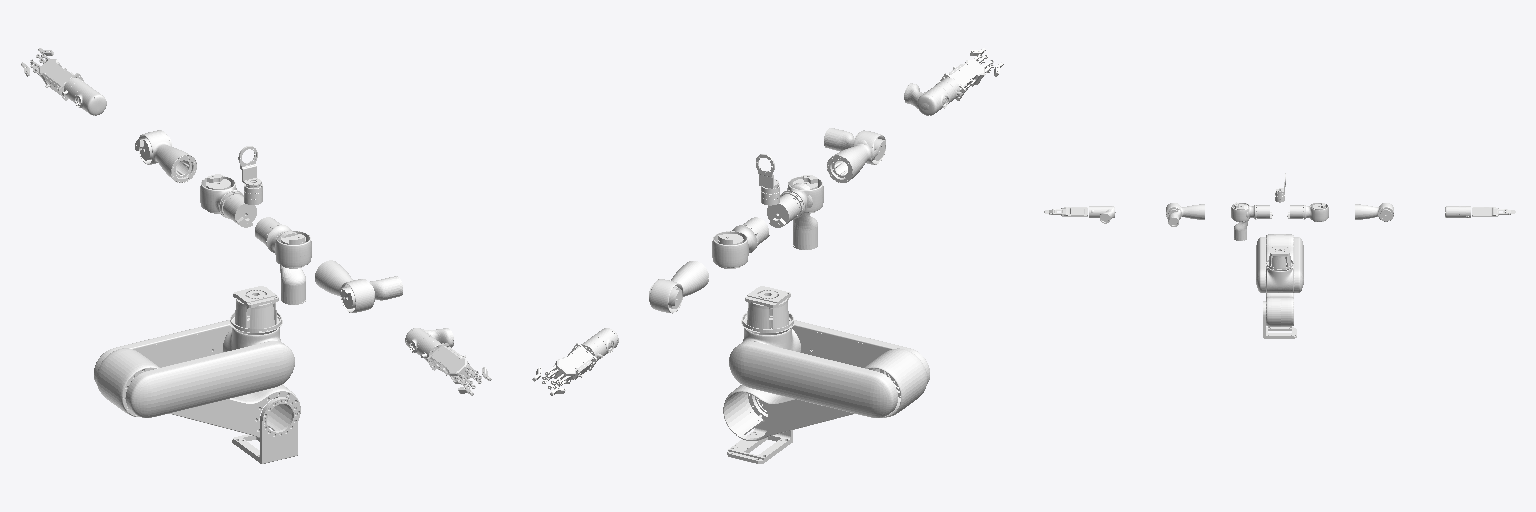
--- Facts derived from the render (not from the file) ---
3 views of the same robot in one strip: view 1: azimuth 30°, elevation 25°; view 2: azimuth 150°, elevation 25°; view 3: azimuth 270°, elevation 25° (orthographic).
Robot: galbot_one — 48 links, 47 joints (20 revolute, 4 prismatic, 23 fixed); root link base_link; default pose: all joints at 0 but 4 set to mid-range because 0 is outside their limits (right_gripper_left_joint = 0.0275, right_gripper_right_joint = 0.0275, left_gripper_left_joint = 0.0275, left_gripper_right_joint = 0.0275).
Visible links, largest first — view 1: leg_link2, leg_link1, leg_base_link, leg_link4, left_arm_link3, right_arm_link3, right_arm_link1, right_gripper_base_link, left_arm_link1, right_arm_link2, left_gripper_base_link, left_arm_base_link (+3 smaller); view 2: leg_link2, leg_link1, leg_link4, left_arm_link3, right_arm_link3, left_arm_link1, leg_base_link, left_gripper_base_link, right_arm_link2, right_gripper_base_link, right_arm_link1, leg_link3 (+3 smaller); view 3: leg_link1, leg_link2, leg_link3, left_arm_link3, leg_link4.
Link boxes in pixels (bbox=[...]): leg_link2: bbox=[94, 320, 294, 417]; leg_link1: bbox=[97, 348, 300, 437]; leg_base_link: bbox=[232, 397, 297, 463]; leg_link4: bbox=[229, 286, 282, 334]; left_arm_link3: bbox=[135, 130, 196, 182]; right_arm_link3: bbox=[315, 260, 374, 312]; right_arm_link1: bbox=[265, 224, 311, 268]; right_gripper_base_link: bbox=[426, 343, 481, 388]; left_arm_link1: bbox=[200, 174, 243, 218]; right_arm_link2: bbox=[278, 231, 305, 304]; left_gripper_base_link: bbox=[30, 54, 83, 100]; left_arm_base_link: bbox=[223, 194, 256, 227]; leg_link2: bbox=[729, 320, 929, 417]; leg_link1: bbox=[723, 348, 926, 440]; leg_link4: bbox=[741, 286, 794, 334]; left_arm_link3: bbox=[649, 261, 708, 313]; right_arm_link3: bbox=[827, 130, 885, 182]; left_arm_link1: bbox=[712, 225, 758, 268]; leg_base_link: bbox=[727, 397, 792, 463]; left_gripper_base_link: bbox=[542, 343, 597, 389]; right_arm_link2: bbox=[791, 183, 817, 249]; right_gripper_base_link: bbox=[940, 54, 993, 100]; right_arm_link1: bbox=[780, 175, 823, 218]; leg_link3: bbox=[743, 316, 800, 352]; leg_link1: bbox=[1266, 234, 1293, 326]; leg_link2: bbox=[1256, 237, 1303, 292]; leg_link3: bbox=[1266, 262, 1293, 292]; left_arm_link3: bbox=[1355, 203, 1393, 221]; leg_link4: bbox=[1266, 246, 1293, 270].
Size in the robot's own frame: 0.5965 by 2.47 by 0.9109 metres.
26 mesh visuals loaded from 31 distinct referenced files (23 binary STL); not drawn: 10 (reference not matched to a file when rendering).

URDF robot description (galbot_one):
<?xml version="1.0" ?>
<!-- =================================================================================== -->
<!-- |    This document was autogenerated by xacro from urdf/galbot_one/galbot_one.xacro | -->
<!-- |    EDITING THIS FILE BY HAND IS NOT RECOMMENDED                                 | -->
<!-- =================================================================================== -->
<!-- 
#####################################################################################
#
# Copyright (c) 2023-2024 Galbot, Inc. All lefts Reserved.
#
# This software contains confidential and proprietary information of Galbot, Inc.
# ("Confidential Information"). You shall not disclose such Confidential Information
# and shall use it only in accordance with the terms of the license agreement you
# entered into with Galbot, Inc.
#
# UNAUTHORIZED COPYING, USE, OR DISTRIBUTION OF THIS SOFTWARE, OR ANY PORTION OR
# DERIVATIVE THEREOF, IS STRICTLY PROHIBITED. IF YOU HAVE RECEIVED THIS SOFTWARE IN
# ERROR, PLEASE NOTIFY GALBOT, INC. IMMEDIATELY AND DELETE IT FROM YOUR SYSTEM.
#
#####################################################################################
#
# Description: Xacro file for Galbot One.
# Author: Herman Ye@Galbot, Yuhao Zeng@Galbot
#
#####################################################################################
-->
<robot name="galbot_one">
  <!-- ROBOT -->
  <!-- Robot Base Link -->
  <link name="base_link"/>
  <joint name="omni_chassis_joint" type="fixed">
    <origin rpy="0 0 0" xyz="0 0 0"/>
    <parent link="base_link"/>
    <child link="omni_chassis_base_link"/>
  </joint>
  <link name="omni_chassis_base_link">
    <inertial>
      <origin rpy="0 0 0" xyz="0.00094269 0.00017452 0.09326"/>
      <mass value="8.7914"/>
      <inertia ixx="0.11584" ixy="-0.00011125" ixz="0.00045932" iyy="0.08221" iyz="2.8393E-06" izz="0.14295"/>
    </inertial>
    <visual>
      <origin rpy="0 0 0" xyz="0 0 0"/>
      <geometry>
        <mesh filename="meshes/chassis/omni_chassis_base_link.stl"/>
      </geometry>
      <material name="">
        <color rgba="1 1 1 1"/>
      </material>
    </visual>
    <collision>
      <origin rpy="0 0 0" xyz="0 0 0"/>
      <geometry>
        <mesh filename="meshes/chassis/omni_chassis_base_link_convex.stl"/>
      </geometry>
    </collision>
  </link>
  <link name="omni_chassis_leg_mount_link"/>
  <joint name="omni_chassis_leg_mount_joint" type="fixed">
    <origin rpy="1.5707963267948966 0 0" xyz="0.134 -0.087 0.13"/>
    <parent link="omni_chassis_base_link"/>
    <child link="omni_chassis_leg_mount_link"/>
    <axis xyz="0 0 0"/>
  </joint>
  <joint name="leg_joint" type="fixed">
    <origin rpy="0 0 0" xyz="0 0 0"/>
    <parent link="omni_chassis_leg_mount_link"/>
    <child link="leg_base_link"/>
  </joint>
  <link name="leg_base_link">
    <inertial>
      <origin rpy="0 0 0" xyz="0.0027248 -0.094364 -0.050137"/>
      <mass value="0.91885"/>
      <inertia ixx="0.0043203" ixy="6.1508E-05" ixz="8.9569E-05" iyy="0.0039878" iyz="-0.0010684" izz="0.0027984"/>
    </inertial>
    <visual>
      <origin rpy="0 0 0" xyz="0 0 0"/>
      <geometry>
        <mesh filename="meshes/leg/leg_base_link.stl"/>
      </geometry>
      <material name="">
        <color rgba="1 1 1 1"/>
      </material>
    </visual>
    <collision>
      <origin rpy="0 0 0" xyz="0 0 0"/>
      <geometry>
        <mesh filename="meshes/leg/leg_base_link_convex.stl"/>
      </geometry>
    </collision>
  </link>
  <link name="leg_link1">
    <inertial>
      <origin rpy="0 0 0" xyz="0.23294 -0.0052987 0.0039698"/>
      <mass value="4.7692"/>
      <inertia ixx="0.019082" ixy="-0.0011116" ixz="0.00034191" iyy="0.16145" iyz="-6.2146E-05" izz="0.15826"/>
    </inertial>
    <visual>
      <origin rpy="0 0 0" xyz="0 0 0"/>
      <geometry>
        <mesh filename="meshes/leg/leg_link1.stl"/>
      </geometry>
      <material name="">
        <color rgba="1 1 1 1"/>
      </material>
    </visual>
    <collision>
      <origin rpy="0 0 0" xyz="0 0 0"/>
      <geometry>
        <mesh filename="meshes/leg/leg_link1_convex.stl"/>
      </geometry>
    </collision>
  </link>
  <joint name="leg_joint1" type="revolute">
    <origin rpy="-3.141592653589793 0 2.756573021" xyz="0 0 -0.087"/>
    <parent link="leg_base_link"/>
    <child link="leg_link1"/>
    <axis xyz="0 0 1"/>
    <limit effort="169" lower="0" upper="0.994837674" velocity="2.3"/>
  </joint>
  <link name="leg_link2">
    <inertial>
      <origin rpy="0 0 0" xyz="0.19637 2.4915E-06 0.0034234"/>
      <mass value="3.6233"/>
      <inertia ixx="0.0054462" ixy="-2.1435E-06" ixz="-2.9611E-05" iyy="0.066819" iyz="5.2347E-08" izz="0.071791"/>
    </inertial>
    <visual>
      <origin rpy="0 0 0" xyz="0 0 0"/>
      <geometry>
        <mesh filename="meshes/leg/leg_link2.stl"/>
      </geometry>
      <material name="">
        <color rgba="1 1 1 1"/>
      </material>
    </visual>
    <collision>
      <origin rpy="0 0 0" xyz="0 0 0"/>
      <geometry>
        <mesh filename="meshes/leg/leg_link2_convex.stl"/>
      </geometry>
    </collision>
  </link>
  <joint name="leg_joint2" type="revolute">
    <origin rpy="-3.141592653589793 0 2.756573021" xyz="0.45 0 0"/>
    <parent link="leg_link1"/>
    <child link="leg_link2"/>
    <axis xyz="0 0 1"/>
    <limit effort="169" lower="0" upper="3.141592654" velocity="2.3"/>
  </joint>
  <link name="leg_link3">
    <inertial>
      <origin rpy="0 0 0" xyz="-1.1016E-05 0.012237 0.0042074"/>
      <mass value="1.7624"/>
      <inertia ixx="0.006745" ixy="-4.1776E-07" ixz="8.7932E-07" iyy="0.0066437" iyz="9.063E-05" izz="0.0073862"/>
    </inertial>
    <visual>
      <origin rpy="0 0 0" xyz="0 0 0"/>
      <geometry>
        <mesh filename="meshes/leg/leg_link3.stl"/>
      </geometry>
      <material name="">
        <color rgba="1 1 1 1"/>
      </material>
    </visual>
    <collision>
      <origin rpy="0 0 0" xyz="0 0 0"/>
      <geometry>
        <mesh filename="meshes/leg/leg_link3_convex.stl"/>
      </geometry>
    </collision>
  </link>
  <joint name="leg_joint3" type="revolute">
    <origin rpy="-3.141592653589793 0 -3.141592653589793" xyz="0.39 0 0"/>
    <parent link="leg_link2"/>
    <child link="leg_link3"/>
    <axis xyz="0 0 1"/>
    <limit effort="84" lower="0" upper="2.35619449" velocity="2.83"/>
  </joint>
  <link name="leg_link4">
    <inertial>
      <origin rpy="0 0 0" xyz="5.7927E-05 -3.0701E-05 0.15111"/>
      <mass value="0.37584"/>
      <inertia ixx="0.00049514" ixy="-3.0213E-07" ixz="-3.9055E-09" iyy="0.00051468" iyz="1.3486E-09" izz="0.00084078"/>
    </inertial>
    <visual>
      <origin rpy="0 0 0" xyz="0 0 0"/>
      <geometry>
        <mesh filename="meshes/leg/leg_link4.stl"/>
      </geometry>
      <material name="">
        <color rgba="1 1 1 1"/>
      </material>
    </visual>
    <collision>
      <origin rpy="0 0 0" xyz="0 0 0"/>
      <geometry>
        <mesh filename="meshes/leg/leg_link4_convex.stl"/>
      </geometry>
    </collision>
  </link>
  <joint name="leg_joint4" type="revolute">
    <origin rpy="1.5707963267948966 0 -3.141592653589793" xyz="0 0 0"/>
    <parent link="leg_link3"/>
    <child link="leg_link4"/>
    <axis xyz="0 0 1"/>
    <limit effort="30" lower="-1.570796327" upper="1.570796327" velocity="3.56"/>
  </joint>
  <link name="leg_torso_mount_link"/>
  <joint name="leg_torso_mount_joint" type="fixed">
    <origin rpy="0 0 0" xyz="0 0 0"/>
    <parent link="leg_link4"/>
    <child link="leg_torso_mount_link"/>
    <axis xyz="0 0 0"/>
  </joint>
  <joint name="torso_joint" type="fixed">
    <origin rpy="0 0 0" xyz="0 0 0"/>
    <parent link="leg_torso_mount_link"/>
    <child link="torso_base_link"/>
  </joint>
  <link name="torso_base_link">
    <inertial>
      <origin rpy="0 0 0" xyz="0.009452 -0.0097068 -0.041989"/>
      <mass value="1.5697"/>
      <inertia ixx="0.018397" ixy="-6.5897E-07" ixz="0.00030036" iyy="0.013058" iyz="0.00016843" izz="0.0082332"/>
    </inertial>
    <visual>
      <origin rpy="0 0 0" xyz="0 0 0"/>
      <geometry>
        <mesh filename="meshes/torso/torso_base_link.stl"/>
      </geometry>
      <material name="">
        <color rgba="1 1 1 1"/>
      </material>
    </visual>
    <collision>
      <origin rpy="0 0 0" xyz="0 0 0"/>
      <geometry>
        <mesh filename="meshes/torso/torso_base_link_convex.stl"/>
      </geometry>
    </collision>
  </link>
  <!-- Head Mount -->
  <link name="torso_head_mount_link"/>
  <joint name="torso_head_mount_joint" type="fixed">
    <origin rpy="0 0 0" xyz="-0.0081669 5E-05 0.51594"/>
    <parent link="torso_base_link"/>
    <child link="torso_head_mount_link"/>
    <axis xyz="0 0 0"/>
  </joint>
  <!-- Right Arm Mount -->
  <link name="torso_right_arm_mount_link"/>
  <joint name="torso_right_arm_mount_joint" type="fixed">
    <origin rpy="1.5707963267948966 0 0" xyz="0 -0.13 0.39599"/>
    <parent link="torso_base_link"/>
    <child link="torso_right_arm_mount_link"/>
    <axis xyz="0 0 0"/>
  </joint>
  <!-- Left Arm Mount -->
  <link name="torso_left_arm_mount_link"/>
  <joint name="torso_left_arm_mount_joint" type="fixed">
    <origin rpy="1.5707963267948966 0 3.141592653589793" xyz="0 0.13 0.39599"/>
    <parent link="torso_base_link"/>
    <child link="torso_left_arm_mount_link"/>
    <axis xyz="0 0 0"/>
  </joint>
  <joint name="head_joint" type="fixed">
    <origin rpy="0 0 0" xyz="0 0 0"/>
    <parent link="torso_head_mount_link"/>
    <child link="head_base_link"/>
  </joint>
  <link name="head_base_link">
    <inertial>
      <origin rpy="0 0 0" xyz="0.009452 -0.0097068 -0.16194"/>
      <mass value="1.5697"/>
      <inertia ixx="0.018397" ixy="-6.5897E-07" ixz="0.00030036" iyy="0.013058" iyz="0.00016843" izz="0.0082332"/>
    </inertial>
    <visual>
      <origin rpy="0 0 0" xyz="0 0 0"/>
      <geometry>
        <mesh filename="meshes/head/head_base_link.stl"/>
      </geometry>
      <material name="">
        <color rgba="1 1 1 1"/>
      </material>
    </visual>
    <collision>
      <origin rpy="0 0 0" xyz="0 0 0"/>
      <geometry>
        <mesh filename="meshes/head/head_base_link_convex.stl"/>
      </geometry>
    </collision>
  </link>
  <link name="head_link1">
    <inertial>
      <origin rpy="0 0 0" xyz="0 0.020487 -0.038531"/>
      <mass value="0.067654"/>
      <inertia ixx="6.0514E-05" ixy="9.335E-21" ixz="-2.5793E-20" iyy="6.6478E-05" iyz="-1.3077E-05" izz="2.4032E-05"/>
    </inertial>
    <visual>
      <origin rpy="0 0 0" xyz="0 0 0"/>
      <geometry>
        <mesh filename="meshes/head/head_link1.stl"/>
      </geometry>
      <material name="">
        <color rgba="1 1 1 1"/>
      </material>
    </visual>
    <collision>
      <origin rpy="0 0 0" xyz="0 0 0"/>
      <geometry>
        <mesh filename="meshes/head/head_link1_convex.stl"/>
      </geometry>
    </collision>
  </link>
  <joint name="head_joint1" type="revolute">
    <origin rpy="0 0 0" xyz="0 0 0.068"/>
    <parent link="head_base_link"/>
    <child link="head_link1"/>
    <axis xyz="0 0 1"/>
    <limit effort="4" lower="-1.570796327" upper="1.570796327" velocity="8.38"/>
  </joint>
  <link name="head_link2">
    <inertial>
      <origin rpy="0 0 0" xyz="0.024473 -0.053558 0.0026343"/>
      <mass value="0.34019"/>
      <inertia ixx="0.0011508" ixy="-0.00026177" ixz="-4.0924E-07" iyy="0.00085046" iyz="1.4953E-08" izz="0.0010147"/>
    </inertial>
    <visual>
      <origin rpy="0 0 0" xyz="0 0 0"/>
      <geometry>
        <mesh filename="meshes/head/head_link2.stl"/>
      </geometry>
      <material name="">
        <color rgba="1 1 1 1"/>
      </material>
    </visual>
    <collision>
      <origin rpy="0 0 0" xyz="0 0 0"/>
      <geometry>
        <mesh filename="meshes/head/head_link2_convex.stl"/>
      </geometry>
    </collision>
  </link>
  <joint name="head_joint2" type="revolute">
    <origin rpy="-1.5707963267948966 0 0" xyz="0 0 0"/>
    <parent link="head_link1"/>
    <child link="head_link2"/>
    <axis xyz="0 0 1"/>
    <limit effort="4" lower="-0.366519143" upper="0.366519143" velocity="8.38"/>
  </joint>
  <joint name="right_arm_joint" type="fixed">
    <origin rpy="0 0 0" xyz="0 0 0"/>
    <parent link="torso_right_arm_mount_link"/>
    <child link="right_arm_base_link"/>
  </joint>
  <link name="right_arm_base_link">
    <inertial>
      <origin rpy="0 0 0" xyz="-0.000533006129660687 0.000198297061670072 -0.0301844828757755"/>
      <mass value="1.10147619180644"/>
      <inertia ixx="0.000565108607160801" ixy="3.47222948820335E-06" ixz="-1.99104558319723E-05" iyy="0.000573095012457538" iyz="7.38740833192177E-06" izz="0.000685130221778769"/>
    </inertial>
    <visual>
      <origin rpy="0 0 0" xyz="0 0 0"/>
      <geometry>
        <mesh filename="meshes/arm/right_arm_base_link.stl"/>
      </geometry>
      <material name="">
        <color rgba="1 1 1 1"/>
      </material>
    </visual>
    <collision>
      <origin rpy="0 0 0" xyz="0 0 0"/>
      <geometry>
        <mesh filename="meshes/arm/right_arm_base_link_convex.stl"/>
      </geometry>
    </collision>
  </link>
  <link name="right_arm_link1">
    <inertial>
      <origin rpy="0 0 0" xyz="3.49009164621467E-05 0.0108339687508697 -0.00355285779638756"/>
      <mass value="1.50298216561586"/>
      <inertia ixx="0.00141484199510697" ixy="1.78602050106263E-06" ixz="-8.63528107802525E-07" iyy="0.00177403869249562" iyz="5.86035752669724E-06" izz="0.00110206097229515"/>
    </inertial>
    <visual>
      <origin rpy="0 0 0" xyz="0 0 0"/>
      <geometry>
        <mesh filename="meshes/arm/right_arm_link1.stl"/>
      </geometry>
      <material name="">
        <color rgba="1 1 1 1"/>
      </material>
    </visual>
    <collision>
      <origin rpy="0 0 0" xyz="0 0 0"/>
      <geometry>
        <mesh filename="meshes/arm/right_arm_link1_convex.stl"/>
      </geometry>
    </collision>
  </link>
  <joint name="right_arm_joint1" type="revolute">
    <origin rpy="0 0 0" xyz="0 0 0.076"/>
    <parent link="right_arm_base_link"/>
    <child link="right_arm_link1"/>
    <axis xyz="0 0 1"/>
    <limit effort="60" lower="-3.141592654" upper="3.141592654" velocity="1.5"/>
  </joint>
  <link name="right_arm_link2">
    <inertial>
      <origin rpy="0 0 0" xyz="-0.0011542937189659 -0.125918427333295 0.00403909337671848"/>
      <mass value="1.45678998733303"/>
      <inertia ixx="0.00269801896410487" ixy="4.63119567548212E-05" ixz="-1.77748665814381E-05" iyy="0.00131692955308753" iyz="-0.000382862812261171" izz="0.00264831680492027"/>
    </inertial>
    <visual>
      <origin rpy="0 0 0" xyz="0 0 0"/>
      <geometry>
        <mesh filename="meshes/arm/right_arm_link2.stl"/>
      </geometry>
      <material name="">
        <color rgba="1 1 1 1"/>
      </material>
    </visual>
    <collision>
      <origin rpy="0 0 0" xyz="0 0 0"/>
      <geometry>
        <mesh filename="meshes/arm/right_arm_link2_convex.stl"/>
      </geometry>
    </collision>
  </link>
  <joint name="right_arm_joint2" type="revolute">
    <origin rpy="-1.5707963267948966 0 3.141592653589793" xyz="0 0 0"/>
    <parent link="right_arm_link1"/>
    <child link="right_arm_link2"/>
    <axis xyz="0 0 1"/>
    <limit effort="60" lower="-1.8" upper="1.570796327" velocity="1.5"/>
  </joint>
  <link name="right_arm_link3">
    <inertial>
      <origin rpy="0 0 0" xyz="0.000352305768300032 -0.00726519320891149 -0.0216211172275835"/>
      <mass value="1.19882450635199"/>
      <inertia ixx="0.00220937810713451" ixy="-1.39043584660172E-05" ixz="1.48996603867525E-06" iyy="0.00236018741531392" iyz="4.46418780437893E-05" izz="0.000843927012398976"/>
    </inertial>
    <visual>
      <origin rpy="0 0 0" xyz="0 0 0"/>
      <geometry>
        <mesh filename="meshes/arm/right_arm_link3.stl"/>
      </geometry>
      <material name="">
        <color rgba="1 1 1 1"/>
      </material>
    </visual>
    <collision>
      <origin rpy="0 0 0" xyz="0 0 0"/>
      <geometry>
        <mesh filename="meshes/arm/right_arm_link3_convex.stl"/>
      </geometry>
    </collision>
  </link>
  <joint name="right_arm_joint3" type="revolute">
    <origin rpy="1.5707963267948966 1.5707963267948966 0" xyz="0 -0.35 0"/>
    <parent link="right_arm_link2"/>
    <child link="right_arm_link3"/>
    <axis xyz="0 0 1"/>
    <limit effort="30" lower="-3.141592654" upper="3.141592654" velocity="1.5"/>
  </joint>
  <link name="right_arm_link4">
    <inertial>
      <origin rpy="0 0 0" xyz="1.5931431873728E-07 -0.084100166334916 0.0032662830921263"/>
      <mass value="0.867364365948374"/>
      <inertia ixx="0.000877887383976985" ixy="1.06944001020881E-08" ixz="-1.42122359084054E-07" iyy="0.000585386964708275" iyz="-0.000142796694938426" izz="0.000827176121025835"/>
    </inertial>
    <visual>
      <origin rpy="0 0 0" xyz="0 0 0"/>
      <geometry>
        <mesh filename="meshes/arm/right_arm_link4.stl"/>
      </geometry>
      <material name="">
        <color rgba="1 1 1 1"/>
      </material>
    </visual>
    <collision>
      <origin rpy="0 0 0" xyz="0 0 0"/>
      <geometry>
        <mesh filename="meshes/arm/right_arm_link4_convex.stl"/>
      </geometry>
    </collision>
  </link>
  <joint name="right_arm_joint4" type="revolute">
    <origin rpy="-1.5707963267948966 0 3.141592653589793" xyz="0 0 0"/>
    <parent link="right_arm_link3"/>
    <child link="right_arm_link4"/>
    <axis xyz="0 0 1"/>
    <limit effort="30" lower="-2.1" upper="2.1" velocity="1.5"/>
  </joint>
  <link name="right_arm_link5">
    <inertial>
      <origin rpy="0 0 0" xyz="-1.30340366499837E-06 0.0256418767190977 -0.117743286278551"/>
      <mass value="1.39256420094548"/>
      <inertia ixx="0.00316702853902255" ixy="7.21162282210242E-08" ixz="-1.52177542728743E-07" iyy="0.00325737339135618" iyz="-0.000396176140685722" izz="0.000888812918742085"/>
    </inertial>
    <visual>
      <origin rpy="0 0 0" xyz="0 0 0"/>
      <geometry>
        <mesh filename="meshes/arm/right_arm_link5.stl"/>
      </geometry>
      <material name="">
        <color rgba="1 1 1 1"/>
      </material>
    </visual>
    <collision>
      <origin rpy="0 0 0" xyz="0 0 0"/>
      <geometry>
        <mesh filename="meshes/arm/right_arm_link5_convex.stl"/>
      </geometry>
    </collision>
  </link>
  <joint name="right_arm_joint5" type="revolute">
    <origin rpy="1.5707963267948966 0 0" xyz="0 -0.36 0"/>
    <parent link="right_arm_link4"/>
    <child link="right_arm_link5"/>
    <axis xyz="0 0 1"/>
    <limit effort="10" lower="-3.141592654" upper="3.141592654" velocity="1.5"/>
  </joint>
  <link name="right_arm_link6">
    <inertial>
      <origin rpy="0 0 0" xyz="-2.88922358060439E-06 -0.000979379563628591 -1.95950029232006E-05"/>
      <mass value="0.574328152865271"/>
      <inertia ixx="0.000196239414479137" ixy="-4.42040670473688E-09" ixz="-2.96256099677375E-08" iyy="0.00023336393089217" iyz="-6.88062986985096E-08" izz="0.000196560460694031"/>
    </inertial>
    <visual>
      <origin rpy="0 0 0" xyz="0 0 0"/>
      <geometry>
        <mesh filename="meshes/arm/right_arm_link6.stl"/>
      </geometry>
      <material name="">
        <color rgba="1 1 1 1"/>
      </material>
    </visual>
    <collision>
      <origin rpy="0 0 0" xyz="0 0 0"/>
      <geometry>
        <mesh filename="meshes/arm/right_arm_link6_convex.stl"/>
      </geometry>
    </collision>
  </link>
  <joint name="right_arm_joint6" type="revolute">
    <origin rpy="-1.5707963267948966 0 3.141592653589793" xyz="0 0 0"/>
    <parent link="right_arm_link5"/>
    <child link="right_arm_link6"/>
    <axis xyz="0 0 1"/>
    <limit effort="10" lower="-1.570796327" upper="1.570796327" velocity="1.5"/>
  </joint>
  <link name="right_arm_link7">
    <inertial>
      <origin rpy="0 0 0" xyz="0.000145324653036516 0.000669639293546548 0.0517788732710871"/>
      <mass value="0.271983892475789"/>
      <inertia ixx="9.12795880546355E-05" ixy="-3.70484062161125E-07" ixz="3.02036543797804E-07" iyy="9.01051818347072E-05" iyz="-2.27095800634144E-07" izz="0.00015076316927533"/>
    </inertial>
    <visual>
      <origin rpy="0 0 0" xyz="0 0 0"/>
      <geometry>
        <mesh filename="meshes/arm/right_arm_link7.stl"/>
      </geometry>
      <material name="">
        <color rgba="1 1 1 1"/>
      </material>
    </visual>
    <collision>
      <origin rpy="0 0 0" xyz="0 0 0"/>
      <geometry>
        <mesh filename="meshes/arm/right_arm_link7_convex.stl"/>
      </geometry>
    </collision>
  </link>
  <joint name="right_arm_joint7" type="revolute">
    <origin rpy="-1.5707963267948966 3.141592653589793 3.141592653589793" xyz="0 0 0"/>
    <parent link="right_arm_link6"/>
    <child link="right_arm_link7"/>
    <axis xyz="0 0 1"/>
    <limit effort="10" lower="-3" upper="3" velocity="1.5"/>
  </joint>
  <link name="right_arm_end_effector_mount_link"/>
  <joint name="right_arm_end_effector_mount_joint" type="fixed">
    <origin rpy="0 0 0" xyz="0 0 0.0845"/>
    <parent link="right_arm_link7"/>
    <child link="right_arm_end_effector_mount_link"/>
    <axis xyz="0 0 0"/>
  </joint>
  <joint name="right_flange_joint" type="fixed">
    <origin rpy="0 0 0.523598776" xyz="0 0 0"/>
    <parent link="right_arm_end_effector_mount_link"/>
    <child link="right_flange_base_link"/>
  </joint>
  <link name="right_flange_base_link">
    <inertial>
      <origin rpy="0 0 0" xyz="0.052829 -0.00096484 0.013285"/>
      <mass value="0.25733"/>
      <inertia ixx="0.0002175" ixy="-2.5433E-06" ixz="4.0586E-06" iyy="5.3894E-05" iyz="-1.8533E-06" izz="0.00025319"/>
    </inertial>
    <visual>
      <origin rpy="0 0 0" xyz="0 0 0"/>
      <geometry>
        <mesh filename="meshes/flange/flange_base_link.stl"/>
      </geometry>
      <material name="">
        <color rgba="1 1 1 1"/>
      </material>
    </visual>
    <collision>
      <origin rpy="0 0 0" xyz="0 0 0"/>
      <geometry>
        <mesh filename="meshes/flange/flange_base_link_convex.stl"/>
      </geometry>
    </collision>
  </link>
  <link name="right_flange_mount_link"/>
  <joint name="right_flange_mount_joint" type="fixed">
    <origin rpy="0 0 0" xyz="0 0 0.006"/>
    <parent link="right_flange_base_link"/>
    <child link="right_flange_mount_link"/>
    <axis xyz="0 0 0"/>
  </joint>
  <joint name="right_arm_camera_joint" type="fixed">
    <origin rpy="3.1415926 -1.308996939 0" xyz="0.0526 -0.02 0.02054"/>
    <parent link="right_flange_base_link"/>
    <child link="right_arm_camera_flange_link"/>
  </joint>
  <link name="right_arm_camera_flange_link">
    <inertial>
      <origin rpy="0 0 0" xyz="0.052829 -0.00096484 0.013285"/>
      <mass value="0.25733"/>
      <inertia ixx="0.0002175" ixy="-2.5433E-06" ixz="4.0586E-06" iyy="5.3894E-05" iyz="-1.8533E-06" izz="0.00025319"/>
    </inertial>
    <visual>
      <origin rpy="0 0 0" xyz="0 0 0"/>
      <geometry>
        <mesh filename="meshes/camera/arm_camera.stl"/>
      </geometry>
      <material name="">
        <color rgba="1 1 1 1"/>
      </material>
    </visual>
    <collision>
      <origin rpy="0 0 0" xyz="0 0 0"/>
      <geometry>
        <mesh filename="meshes/camera/arm_camera_convex.stl"/>
      </geometry>
    </collision>
  </link>
  <joint name="right_gripper_joint" type="fixed">
    <origin rpy="0 0 0" xyz="0 0 0"/>
    <parent link="right_flange_mount_link"/>
    <child link="right_gripper_base_link"/>
  </joint>
  <link name="right_gripper_base_link">
    <inertial>
      <origin rpy="0 0 0" xyz="0.0875969515032359 -0.000593766922509439 -0.000273353044587243"/>
      <mass value="0.229646651659589"/>
      <inertia ixx="8.60029243295527E-05" ixy="2.00063024143341E-06" ixz="2.85398505671959E-06" iyy="7.73254340691918E-05" iyz="-1.0856442426917E-07" izz="9.78281466602487E-05"/>
    </inertial>
    <visual>
      <origin rpy="0 0 0" xyz="0 0 0"/>
      <geometry>
        <mesh filename="meshes/gripper/gripper_hitbot_base_link.stl"/>
      </geometry>
      <material name="">
        <color rgba="1 1 1 1"/>
      </material>
    </visual>
    <collision>
      <origin rpy="0 0 0" xyz="0 0 0"/>
      <geometry>
        <mesh filename="meshes/gripper/gripper_hitbot_base_link_convex.stl"/>
      </geometry>
    </collision>
  </link>
  <link name="right_gripper_left_link">
    <inertial>
      <origin rpy="0 0 0" xyz="-0.0231481638496937 -4.90112376816481E-07 -0.000267991935875532"/>
      <mass value="0.00675449578859124"/>
      <inertia ixx="3.19945619554153E-07" ixy="-7.76829664652689E-12" ixz="-3.91342467850705E-07" iyy="1.5976052028241E-06" iyz="2.16781299849398E-11" izz="1.50158040800935E-06"/>
    </inertial>
    <visual>
      <origin rpy="0 0 0" xyz="0 0 0"/>
      <geometry>
        <mesh filename="meshes/gripper/gripper_hitbot_left_link.stl"/>
      </geometry>
      <material name="">
        <color rgba="1 1 1 1"/>
      </material>
    </visual>
    <collision>
      <origin rpy="0 0 0" xyz="0 0 0"/>
      <geometry>
        <mesh filename="meshes/gripper/gripper_hitbot_left_link_convex.stl"/>
      </geometry>
    </collision>
  </link>
  <joint name="right_gripper_left_joint" type="prismatic">
    <origin rpy="1.5707963267948966 0 3.141592653589793" xyz="0 0 0.21579"/>
    <parent link="right_gripper_base_link"/>
    <child link="right_gripper_left_link"/>
    <axis xyz="0 0 1"/>
    <limit effort="2" lower="0.005" upper="0.05" velocity="0.045"/>
  </joint>
  <link name="right_gripper_right_link">
    <inertial>
      <origin rpy="0 0 0" xyz="-0.0231481638496943 -4.90112376734401E-07 -0.000267991935824489"/>
      <mass value="0.00675449578859123"/>
      <inertia ixx="3.19945619552427E-07" ixy="-7.76829655500751E-12" ixz="-3.91342467848098E-07" iyy="1.5976052028241E-06" iyz="2.16781300075729E-11" izz="1.50158040801108E-06"/>
    </inertial>
    <visual>
      <origin rpy="0 0 0" xyz="0 0 0"/>
      <geometry>
        <mesh filename="meshes/gripper/gripper_hitbot_right_link.stl"/>
      </geometry>
      <material name="">
        <color rgba="1 1 1 1"/>
      </material>
    </visual>
    <collision>
      <origin rpy="0 0 0" xyz="0 0 0"/>
      <geometry>
        <mesh filename="meshes/gripper/gripper_hitbot_right_link_convex.stl"/>
      </geometry>
    </collision>
  </link>
  <joint name="right_gripper_right_joint" type="prismatic">
    <origin rpy="-1.5707963267948966 0 -3.141592653589793" xyz="0 0 0.21579"/>
    <parent link="right_gripper_base_link"/>
    <child link="right_gripper_right_link"/>
    <axis xyz="0 0 1"/>
    <limit effort="2" lower="0.005" upper="0.05" velocity="0.045"/>
    <!-- mimic not supported in isaac sim 2023.1.0-hotfix  -->
    <!-- <mimic joint="${name}_left_joint" multiplier="-1" offset="0" /> -->
  </joint>
  <!-- Tool Center Point -->
  <link name="right_gripper_tcp_link"/>
  <joint name="right_tcp_joint" type="fixed">
    <origin rpy="0 3.141592653589793 -1.5707963267948966" xyz="0 0 0.22"/>
    <parent link="right_gripper_base_link"/>
    <child link="right_gripper_tcp_link"/>
    <axis xyz="0 0 0"/>
  </joint>
  <joint name="left_arm_joint" type="fixed">
    <origin rpy="0 0 0" xyz="0 0 0"/>
    <parent link="torso_left_arm_mount_link"/>
    <child link="left_arm_base_link"/>
  </joint>
  <link name="left_arm_base_link">
    <inertial>
      <origin rpy="0 0 0" xyz="0.00056868 -5.0139E-06 -0.030184"/>
      <mass value="1.1015"/>
      <inertia ixx="0.00056381" ixy="1.1123E-07" ixz="2.1236E-05" iyy="0.00057439" iyz="-1.685E-07" izz="0.00068513"/>
    </inertial>
    <visual>
      <origin rpy="0 0 0" xyz="0 0 0"/>
      <geometry>
        <mesh filename="meshes/arm/left_arm_base_link.stl"/>
      </geometry>
      <material name="">
        <color rgba="1 1 1 1"/>
      </material>
    </visual>
    <collision>
      <origin rpy="0 0 0" xyz="0 0 0"/>
      <geometry>
        <mesh filename="meshes/arm/left_arm_base_link_convex.stl"/>
      </geometry>
    </collision>
  </link>
  <link name="left_arm_link1">
    <inertial>
      <origin rpy="0 0 0" xyz="-3.4901E-05 -0.010834 -0.0035529"/>
      <mass value="1.503"/>
      <inertia ixx="0.0014148" ixy="1.786E-06" ixz="8.6353E-07" iyy="0.001774" iyz="-5.8604E-06" izz="0.0011021"/>
    </inertial>
    <visual>
      <origin rpy="0 0 0" xyz="0 0 0"/>
      <geometry>
        <mesh filename="meshes/arm/left_arm_link1.stl"/>
      </geometry>
      <material name="">
        <color rgba="1 1 1 1"/>
      </material>
    </visual>
    <collision>
      <origin rpy="0 0 0" xyz="0 0 0"/>
      <geometry>
        <mesh filename="meshes/arm/left_arm_link1_convex.stl"/>
      </geometry>
    </collision>
  </link>
  <joint name="left_arm_joint1" type="revolute">
    <origin rpy="0 0 0" xyz="0 0 0.076"/>
    <parent link="left_arm_base_link"/>
    <child link="left_arm_link1"/>
    <axis xyz="0 0 1"/>
    <limit effort="60" lower="-3.141592654" upper="3.141592654" velocity="1.5"/>
  </joint>
  <link name="left_arm_link2">
    <inertial>
      <origin rpy="0 0 0" xyz="0.0011543 0.12592 0.0040391"/>
      <mass value="1.4568"/>
      <inertia ixx="0.002698" ixy="4.6312E-05" ixz="1.7775E-05" iyy="0.0013169" iyz="0.00038286" izz="0.0026483"/>
    </inertial>
    <visual>
      <origin rpy="0 0 0" xyz="0 0 0"/>
      <geometry>
        <mesh filename="meshes/arm/left_arm_link2.stl"/>
      </geometry>
      <material name="">
        <color rgba="1 1 1 1"/>
      </material>
    </visual>
    <collision>
      <origin rpy="0 0 0" xyz="0 0 0"/>
      <geometry>
        <mesh filename="meshes/arm/left_arm_link2_convex.stl"/>
      </geometry>
    </collision>
  </link>
  <joint name="left_arm_joint2" type="revolute">
    <origin rpy="-1.5707963267948966 0 3.141592653589793" xyz="0 0 0"/>
    <parent link="left_arm_link1"/>
    <child link="left_arm_link2"/>
    <axis xyz="0 0 1"/>
    <limit effort="60" lower="-1.570796327" upper="1.8" velocity="1.5"/>
  </joint>
  <link name="left_arm_link3">
    <inertial>
      <origin rpy="0 0 0" xyz="0.00035231 -0.0072652 -0.021621"/>
      <mass value="1.1988"/>
      <inertia ixx="0.0022094" ixy="-1.3904E-05" ixz="1.4901E-06" iyy="0.0023602" iyz="4.4642E-05" izz="0.00084393"/>
    </inertial>
    <visual>
      <origin rpy="0 0 0" xyz="0 0 0"/>
      <geometry>
        <mesh filename="meshes/arm/left_arm_link3.stl"/>
      </geometry>
      <material name="">
        <color rgba="1 1 1 1"/>
      </material>
    </visual>
    <collision>
      <origin rpy="0 0 0" xyz="0 0 0"/>
      <geometry>
        <mesh filename="meshes/arm/left_arm_link3_convex.stl"/>
      </geometry>
    </collision>
  </link>
  <joint name="left_arm_joint3" type="revolute">
    <origin rpy="1.5707963267948966 -1.5707963267948966 0" xyz="0 -0.35 0"/>
    <parent link="left_arm_link2"/>
    <child link="left_arm_link3"/>
    <axis xyz="0 0 1"/>
    <limit effort="30" lower="-3.141592654" upper="3.141592654" velocity="1.5"/>
  </joint>
  <link name="left_arm_link4">
    <inertial>
      <origin rpy="0 0 0" xyz="1.6053E-07 -0.0841 0.0032663"/>
      <mass value="0.86736"/>
      <inertia ixx="0.00087789" ixy="1.0686E-08" ixz="-1.4208E-07" iyy="0.00058539" iyz="-0.0001428" izz="0.00082718"/>
    </inertial>
    <visual>
      <origin rpy="0 0 0" xyz="0 0 0"/>
      <geometry>
        <mesh filename="meshes/arm/left_arm_link4.stl"/>
      </geometry>
      <material name="">
        <color rgba="1 1 1 1"/>
      </material>
    </visual>
    <collision>
      <origin rpy="0 0 0" xyz="0 0 0"/>
      <geometry>
        <mesh filename="meshes/arm/left_arm_link4_convex.stl"/>
      </geometry>
    </collision>
  </link>
  <joint name="left_arm_joint4" type="revolute">
    <origin rpy="-1.5707963267948966 0 3.141592653589793" xyz="0 0 0"/>
    <parent link="left_arm_link3"/>
    <child link="left_arm_link4"/>
    <axis xyz="0 0 1"/>
    <limit effort="30" lower="-2.1" upper="2.1" velocity="1.5"/>
  </joint>
  <link name="left_arm_link5">
    <inertial>
      <origin rpy="0 0 0" xyz="1.5971E-06 -0.025642 -0.11774"/>
      <mass value="1.3926"/>
      <inertia ixx="0.003167" ixy="8.3315E-08" ixz="1.4879E-07" iyy="0.0032574" iyz="0.00039617" izz="0.00088879"/>
    </inertial>
    <visual>
      <origin rpy="0 0 0" xyz="0 0 0"/>
      <geometry>
        <mesh filename="meshes/arm/left_arm_link5.stl"/>
      </geometry>
      <material name="">
        <color rgba="1 1 1 1"/>
      </material>
    </visual>
    <collision>
      <origin rpy="0 0 0" xyz="0 0 0"/>
      <geometry>
        <mesh filename="meshes/arm/left_arm_link5_convex.stl"/>
      </geometry>
    </collision>
  </link>
  <joint name="left_arm_joint5" type="revolute">
    <origin rpy="1.5707963267948966 0 0" xyz="0 -0.36 0"/>
    <parent link="left_arm_link4"/>
    <child link="left_arm_link5"/>
    <axis xyz="0 0 1"/>
    <limit effort="10" lower="-3.141592654" upper="3.141592654" velocity="1.5"/>
  </joint>
  <link name="left_arm_link6">
    <inertial>
      <origin rpy="0 0 0" xyz="-2.8892E-06 -0.00097938 -1.9595E-05"/>
      <mass value="0.57433"/>
      <inertia ixx="0.00019624" ixy="-4.4204E-09" ixz="-2.9626E-08" iyy="0.00023336" iyz="-6.8806E-08" izz="0.00019656"/>
    </inertial>
    <visual>
      <origin rpy="0 0 0" xyz="0 0 0"/>
      <geometry>
        <mesh filename="meshes/arm/left_arm_link6.stl"/>
      </geometry>
      <material name="">
        <color rgba="1 1 1 1"/>
      </material>
    </visual>
    <collision>
      <origin rpy="0 0 0" xyz="0 0 0"/>
      <geometry>
        <mesh filename="meshes/arm/left_arm_link6_convex.stl"/>
      </geometry>
    </collision>
  </link>
  <joint name="left_arm_joint6" type="revolute">
    <origin rpy="-1.5707963267948966 0 3.141592653589793" xyz="0 0 0"/>
    <parent link="left_arm_link5"/>
    <child link="left_arm_link6"/>
    <axis xyz="0 0 1"/>
    <limit effort="10" lower="-1.570796327" upper="1.570796327" velocity="1.5"/>
  </joint>
  <link name="left_arm_link7">
    <inertial>
      <origin rpy="0 0 0" xyz="0.00014532 0.00066964 0.051779"/>
      <mass value="0.27198"/>
      <inertia ixx="9.128E-05" ixy="-3.7048E-07" ixz="3.0204E-07" iyy="9.0105E-05" iyz="-2.2709E-07" izz="0.00015076"/>
    </inertial>
    <visual>
      <origin rpy="0 0 0" xyz="0 0 0"/>
      <geometry>
        <mesh filename="meshes/arm/left_arm_link7.stl"/>
      </geometry>
      <material name="">
        <color rgba="1 1 1 1"/>
      </material>
    </visual>
    <collision>
      <origin rpy="0 0 0" xyz="0 0 0"/>
      <geometry>
        <mesh filename="meshes/arm/left_arm_link7_convex.stl"/>
      </geometry>
    </collision>
  </link>
  <joint name="left_arm_joint7" type="revolute">
    <origin rpy="1.5707963267948966 0 0" xyz="0 0 0"/>
    <parent link="left_arm_link6"/>
    <child link="left_arm_link7"/>
    <axis xyz="0 0 1"/>
    <limit effort="10" lower="-3" upper="3" velocity="1.5"/>
  </joint>
  <link name="left_arm_end_effector_mount_link"/>
  <joint name="left_arm_end_effector_mount_joint" type="fixed">
    <origin rpy="0 0 0" xyz="0 0 0.0845"/>
    <parent link="left_arm_link7"/>
    <child link="left_arm_end_effector_mount_link"/>
    <axis xyz="0 0 0"/>
  </joint>
  <joint name="left_flange_joint" type="fixed">
    <origin rpy="0 0 2.617993878" xyz="0 0 0"/>
    <parent link="left_arm_end_effector_mount_link"/>
    <child link="left_flange_base_link"/>
  </joint>
  <link name="left_flange_base_link">
    <inertial>
      <origin rpy="0 0 0" xyz="0.052829 -0.00096484 0.013285"/>
      <mass value="0.25733"/>
      <inertia ixx="0.0002175" ixy="-2.5433E-06" ixz="4.0586E-06" iyy="5.3894E-05" iyz="-1.8533E-06" izz="0.00025319"/>
    </inertial>
    <visual>
      <origin rpy="0 0 0" xyz="0 0 0"/>
      <geometry>
        <mesh filename="meshes/flange/flange_base_link.stl"/>
      </geometry>
      <material name="">
        <color rgba="1 1 1 1"/>
      </material>
    </visual>
    <collision>
      <origin rpy="0 0 0" xyz="0 0 0"/>
      <geometry>
        <mesh filename="meshes/flange/flange_base_link_convex.stl"/>
      </geometry>
    </collision>
  </link>
  <link name="left_flange_mount_link"/>
  <joint name="left_flange_mount_joint" type="fixed">
    <origin rpy="0 0 0" xyz="0 0 0.006"/>
    <parent link="left_flange_base_link"/>
    <child link="left_flange_mount_link"/>
    <axis xyz="0 0 0"/>
  </joint>
  <joint name="left_arm_camera_joint" type="fixed">
    <origin rpy="3.1415926 -1.308996939 0" xyz="0.0526 -0.02 0.02054"/>
    <parent link="left_flange_base_link"/>
    <child link="left_arm_camera_flange_link"/>
  </joint>
  <link name="left_arm_camera_flange_link">
    <inertial>
      <origin rpy="0 0 0" xyz="0.052829 -0.00096484 0.013285"/>
      <mass value="0.25733"/>
      <inertia ixx="0.0002175" ixy="-2.5433E-06" ixz="4.0586E-06" iyy="5.3894E-05" iyz="-1.8533E-06" izz="0.00025319"/>
    </inertial>
    <visual>
      <origin rpy="0 0 0" xyz="0 0 0"/>
      <geometry>
        <mesh filename="meshes/camera/arm_camera.stl"/>
      </geometry>
      <material name="">
        <color rgba="1 1 1 1"/>
      </material>
    </visual>
    <collision>
      <origin rpy="0 0 0" xyz="0 0 0"/>
      <geometry>
        <mesh filename="meshes/camera/arm_camera_convex.stl"/>
      </geometry>
    </collision>
  </link>
  <joint name="left_gripper_joint" type="fixed">
    <origin rpy="0 0 0" xyz="0 0 0"/>
    <parent link="left_flange_mount_link"/>
    <child link="left_gripper_base_link"/>
  </joint>
  <link name="left_gripper_base_link">
    <inertial>
      <origin rpy="0 0 0" xyz="0.0875969515032359 -0.000593766922509439 -0.000273353044587243"/>
      <mass value="0.229646651659589"/>
      <inertia ixx="8.60029243295527E-05" ixy="2.00063024143341E-06" ixz="2.85398505671959E-06" iyy="7.73254340691918E-05" iyz="-1.0856442426917E-07" izz="9.78281466602487E-05"/>
    </inertial>
    <visual>
      <origin rpy="0 0 0" xyz="0 0 0"/>
      <geometry>
        <mesh filename="meshes/gripper/gripper_hitbot_base_link.stl"/>
      </geometry>
      <material name="">
        <color rgba="1 1 1 1"/>
      </material>
    </visual>
    <collision>
      <origin rpy="0 0 0" xyz="0 0 0"/>
      <geometry>
        <mesh filename="meshes/gripper/gripper_hitbot_base_link_convex.stl"/>
      </geometry>
    </collision>
  </link>
  <link name="left_gripper_left_link">
    <inertial>
      <origin rpy="0 0 0" xyz="-0.0231481638496937 -4.90112376816481E-07 -0.000267991935875532"/>
      <mass value="0.00675449578859124"/>
      <inertia ixx="3.19945619554153E-07" ixy="-7.76829664652689E-12" ixz="-3.91342467850705E-07" iyy="1.5976052028241E-06" iyz="2.16781299849398E-11" izz="1.50158040800935E-06"/>
    </inertial>
    <visual>
      <origin rpy="0 0 0" xyz="0 0 0"/>
      <geometry>
        <mesh filename="meshes/gripper/gripper_hitbot_left_link.stl"/>
      </geometry>
      <material name="">
        <color rgba="1 1 1 1"/>
      </material>
    </visual>
    <collision>
      <origin rpy="0 0 0" xyz="0 0 0"/>
      <geometry>
        <mesh filename="meshes/gripper/gripper_hitbot_left_link_convex.stl"/>
      </geometry>
    </collision>
  </link>
  <joint name="left_gripper_left_joint" type="prismatic">
    <origin rpy="1.5707963267948966 0 3.141592653589793" xyz="0 0 0.21579"/>
    <parent link="left_gripper_base_link"/>
    <child link="left_gripper_left_link"/>
    <axis xyz="0 0 1"/>
    <limit effort="2" lower="0.005" upper="0.05" velocity="0.045"/>
  </joint>
  <link name="left_gripper_right_link">
    <inertial>
      <origin rpy="0 0 0" xyz="-0.0231481638496943 -4.90112376734401E-07 -0.000267991935824489"/>
      <mass value="0.00675449578859123"/>
      <inertia ixx="3.19945619552427E-07" ixy="-7.76829655500751E-12" ixz="-3.91342467848098E-07" iyy="1.5976052028241E-06" iyz="2.16781300075729E-11" izz="1.50158040801108E-06"/>
    </inertial>
    <visual>
      <origin rpy="0 0 0" xyz="0 0 0"/>
      <geometry>
        <mesh filename="meshes/gripper/gripper_hitbot_right_link.stl"/>
      </geometry>
      <material name="">
        <color rgba="1 1 1 1"/>
      </material>
    </visual>
    <collision>
      <origin rpy="0 0 0" xyz="0 0 0"/>
      <geometry>
        <mesh filename="meshes/gripper/gripper_hitbot_right_link_convex.stl"/>
      </geometry>
    </collision>
  </link>
  <joint name="left_gripper_right_joint" type="prismatic">
    <origin rpy="-1.5707963267948966 0 -3.141592653589793" xyz="0 0 0.21579"/>
    <parent link="left_gripper_base_link"/>
    <child link="left_gripper_right_link"/>
    <axis xyz="0 0 1"/>
    <limit effort="2" lower="0.005" upper="0.05" velocity="0.045"/>
    <!-- mimic not supported in isaac sim 2023.1.0-hotfix  -->
    <!-- <mimic joint="${name}_left_joint" multiplier="-1" offset="0" /> -->
  </joint>
  <!-- Tool Center Point -->
  <link name="left_gripper_tcp_link"/>
  <joint name="left_tcp_joint" type="fixed">
    <origin rpy="0 3.141592653589793 -1.5707963267948966" xyz="0 0 0.22"/>
    <parent link="left_gripper_base_link"/>
    <child link="left_gripper_tcp_link"/>
    <axis xyz="0 0 0"/>
  </joint>
</robot>
